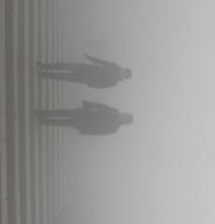person: (36, 51, 134, 90), (36, 101, 134, 136)
